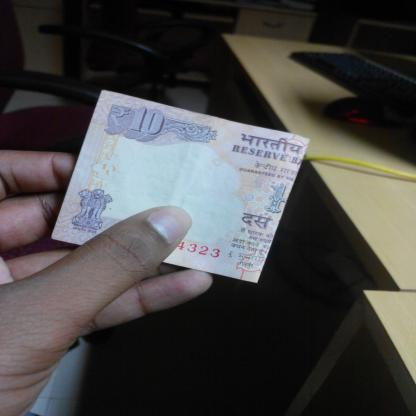Old10Front: (52, 89, 312, 286)
